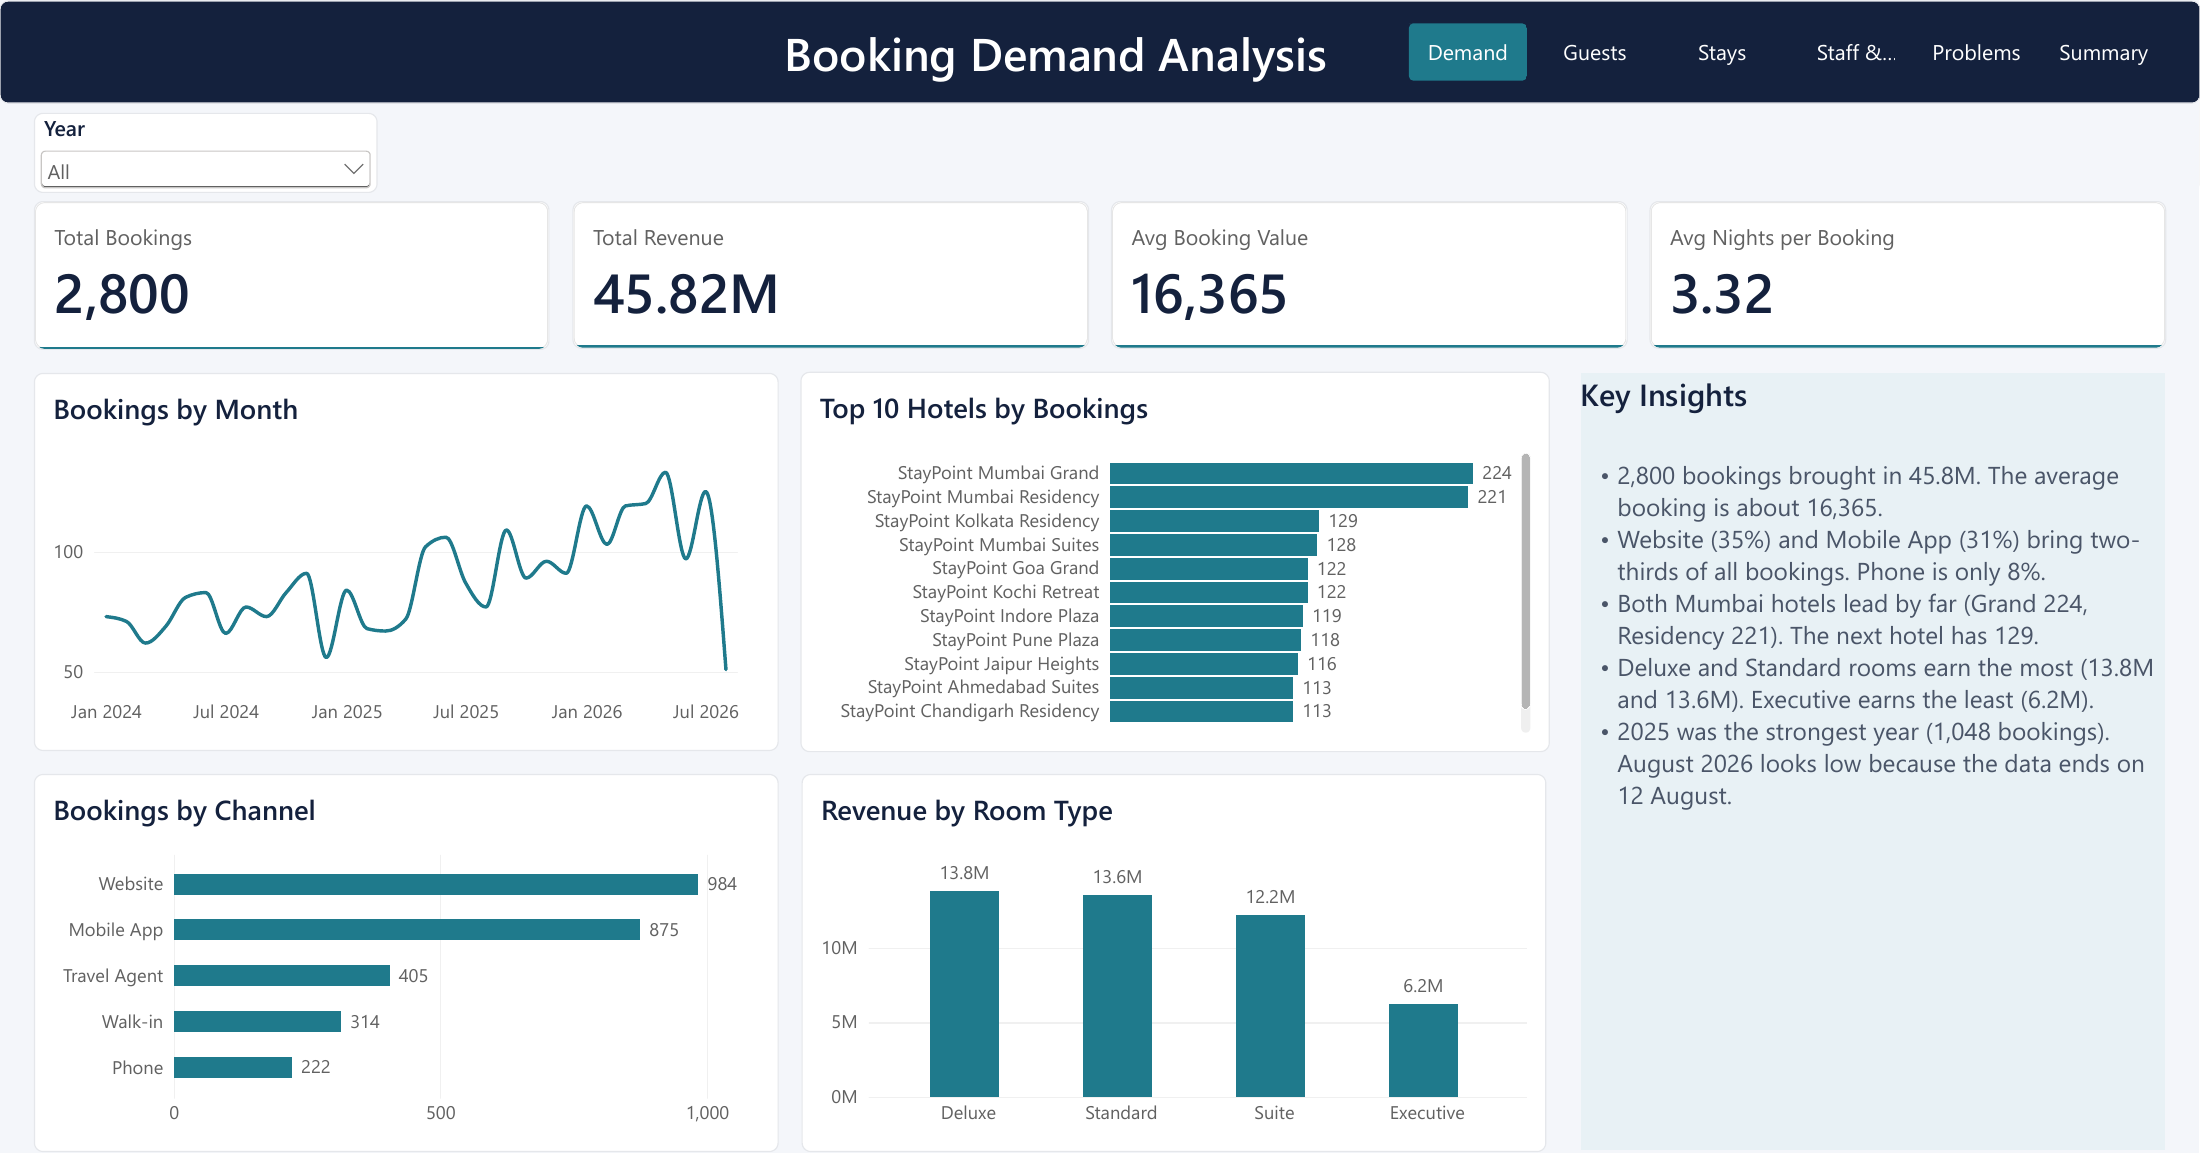

The dashboard page shown, as its layout file describes it:
{"tool":"powerbi","page":{"name":"Demand","canvas":[1920,1080],"ordinal":0},"visuals":[{"type":"shape","box":[0,0,1920.7,90],"z":1001},{"type":"textbox","title":"Booking Demand Analysis","box":[31,19.1,1782.3,52.5],"z":1002},{"type":"pageNavigator","box":[1230,20,660,50],"z":1003},{"type":"cardVisual","fields":{"Data":["_Measures.Total Bookings"]},"box":[30,175,450,130],"z":1004},{"type":"cardVisual","fields":{"Data":["_Measures.Total Revenue"]},"box":[500,175,450.9,128.8],"z":1005},{"type":"cardVisual","fields":{"Data":["_Measures.Avg Booking Value"]},"box":[970,175,450.9,128.8],"z":1006},{"type":"cardVisual","fields":{"Data":["_Measures.Avg Nights per Booking"]},"box":[1440,175,450.9,128.8],"z":1007},{"type":"lineChart","title":"Bookings by Month","fields":{"Category":["date_table.Month Start"],"Y":["_Measures.Total Bookings"]},"box":[30,325,650,330],"z":1008},{"type":"clusteredBarChart","title":"Top 10 Hotels by Bookings","fields":{"Category":["hotels.hotel_name"],"Y":["_Measures.Total Bookings"]},"box":[699.1,324.5,653.7,331.6],"z":1009},{"type":"clusteredBarChart","title":"Bookings by Channel","fields":{"Category":["bookings.booking_channel"],"Y":["_Measures.Total Bookings"]},"box":[30,675,650,330],"z":1010},{"type":"clusteredColumnChart","title":"Revenue by Room Type","fields":{"Category":["bookings.room_type_requested"],"Y":["_Measures.Total Revenue"]},"box":[700,675,650,330],"z":1011},{"type":"slicer","fields":{"Values":["date_table.Year"]},"box":[30,98,300,70],"z":1012},{"type":"textbox","title":"Key Insights","box":[1380,325,510,678],"z":1013}]}

Visuals, with their boxes on the page's 1920x1080 design canvas (x1, y1, x2, y2). These are canvas units, not pixel positions in the 2200x1153 screenshot, which may show the page scaled, cropped or inside an application window:
shape: x1=0, y1=0, x2=1921, y2=90
"Booking Demand Analysis" textbox: x1=31, y1=19, x2=1813, y2=72
pageNavigator: x1=1230, y1=20, x2=1890, y2=70
cardVisual - _Measures.Total Bookings: x1=30, y1=175, x2=480, y2=305
cardVisual - _Measures.Total Revenue: x1=500, y1=175, x2=951, y2=304
cardVisual - _Measures.Avg Booking Value: x1=970, y1=175, x2=1421, y2=304
cardVisual - _Measures.Avg Nights per Booking: x1=1440, y1=175, x2=1891, y2=304
"Bookings by Month" lineChart: x1=30, y1=325, x2=680, y2=655
"Top 10 Hotels by Bookings" clusteredBarChart: x1=699, y1=324, x2=1353, y2=656
"Bookings by Channel" clusteredBarChart: x1=30, y1=675, x2=680, y2=1005
"Revenue by Room Type" clusteredColumnChart: x1=700, y1=675, x2=1350, y2=1005
slicer - date_table.Year: x1=30, y1=98, x2=330, y2=168
"Key Insights" textbox: x1=1380, y1=325, x2=1890, y2=1003
